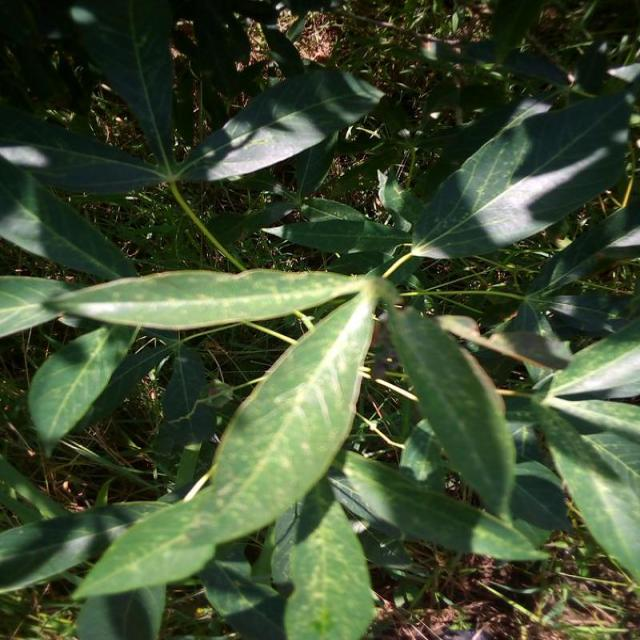cassava leaf: (70, 280, 378, 602), (408, 88, 632, 262), (385, 302, 517, 523), (177, 60, 384, 183)
